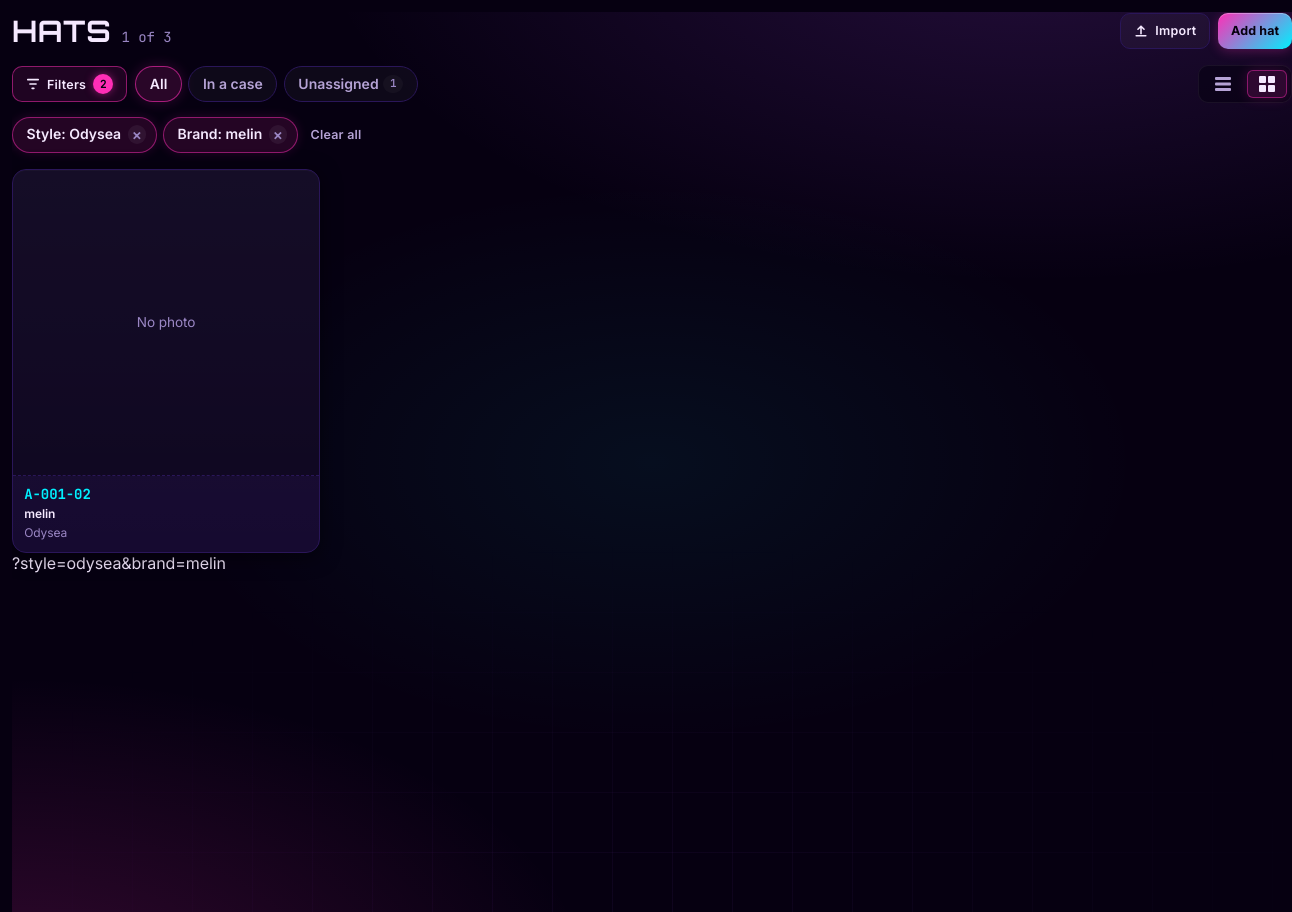
Test: HatsPage › seeds filters from the URL and names them as removable chips
Expected: the text "A-001-02" is shown, [24,485,91,503]
Expected: the text "A-001-01" is not shown
// The chip uses the option's label once the options load, not the slug.
Click the button with aria-label "Remove filter Style: Odysea" at (84, 135), box [12,117,156,153]
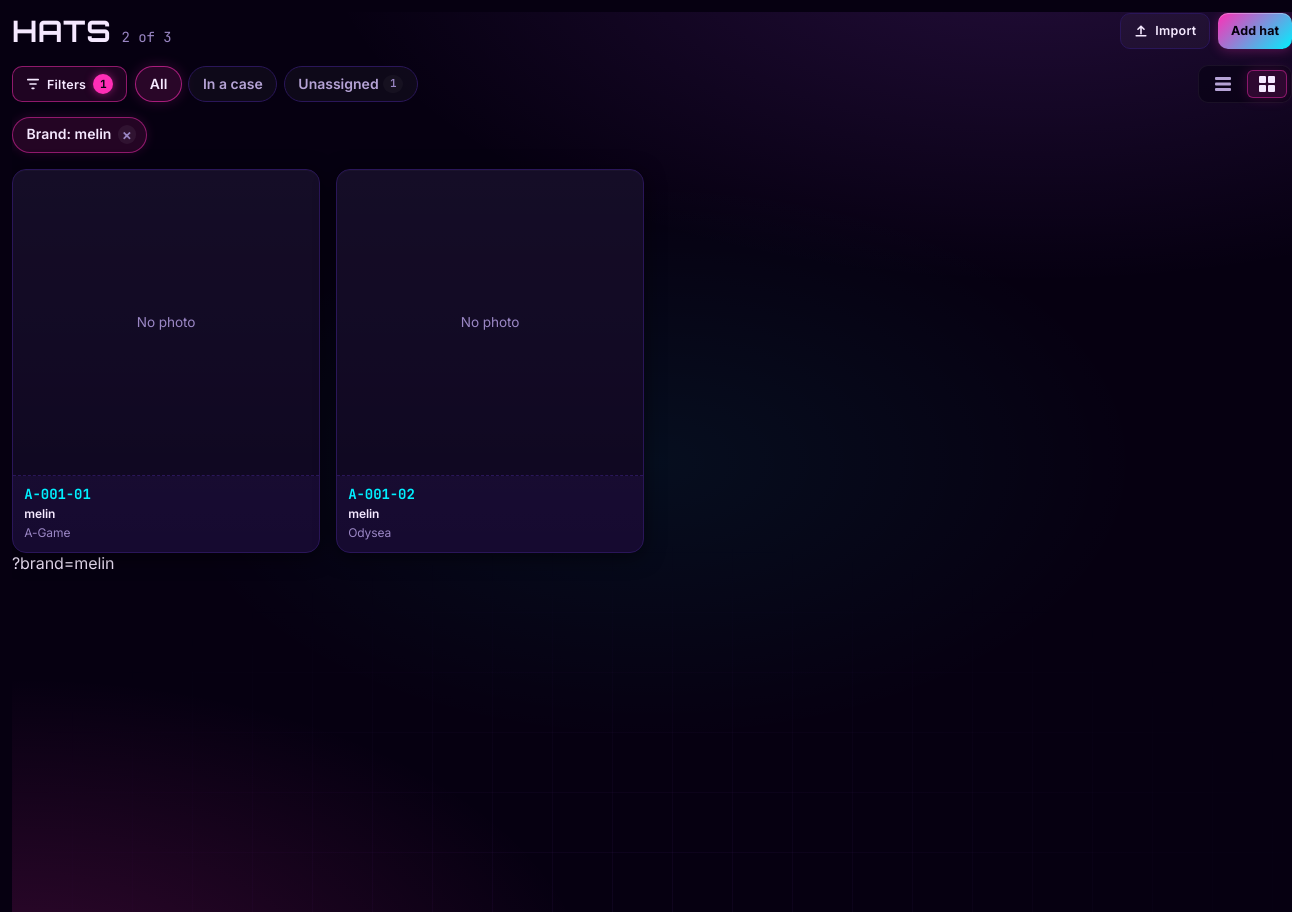
Expected: the text "A-001-02" is shown, [348,485,415,503]
Now the text "A-001-01" is shown, box [24,485,91,503]
